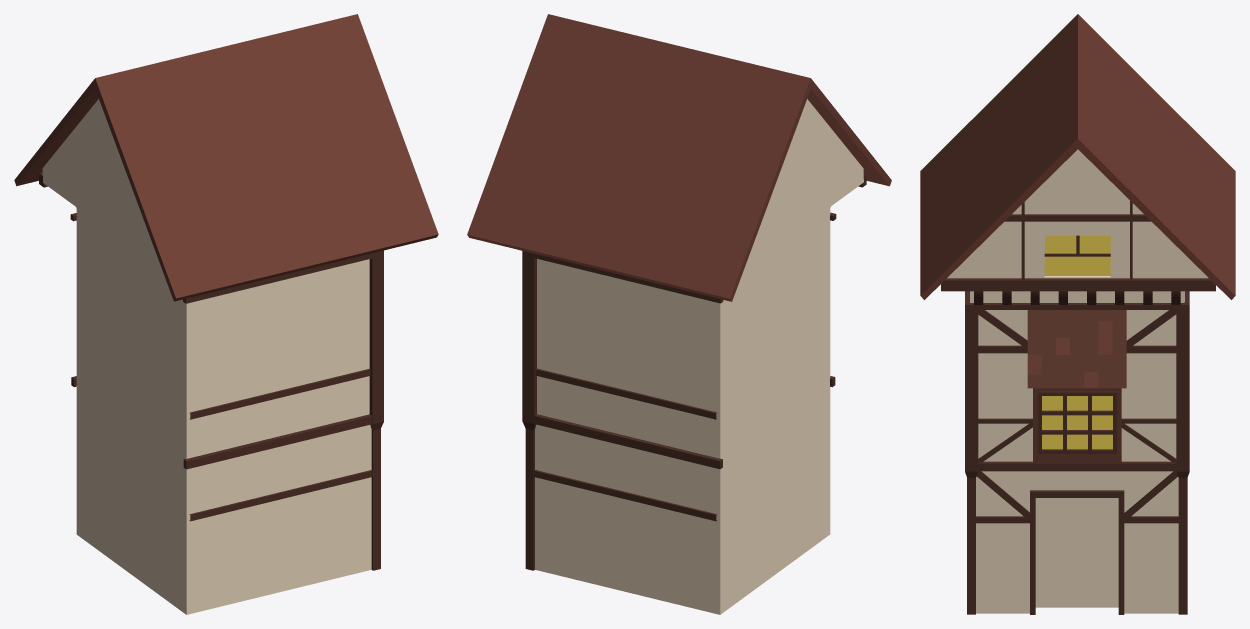
File: Building_2.fbx
The picture shows the model from 3 angles, left to right: view 1: azimuth 30°, elevation 25°; view 2: azimuth 150°, elevation 25°; view 3: azimuth 270°, elevation 25°; orthographic projection. The views are drawn at different scales.
Parts seen in each view (by area): view 1: Building_2; view 2: Building_2; view 3: Building_2.
Part boxes in pixels (x1,y1,x2,y2): Building_2: [14, 14, 438, 614]; Building_2: [467, 14, 891, 614]; Building_2: [920, 14, 1235, 614].
Size of the model in its own units: 401 by 736 by 427.
